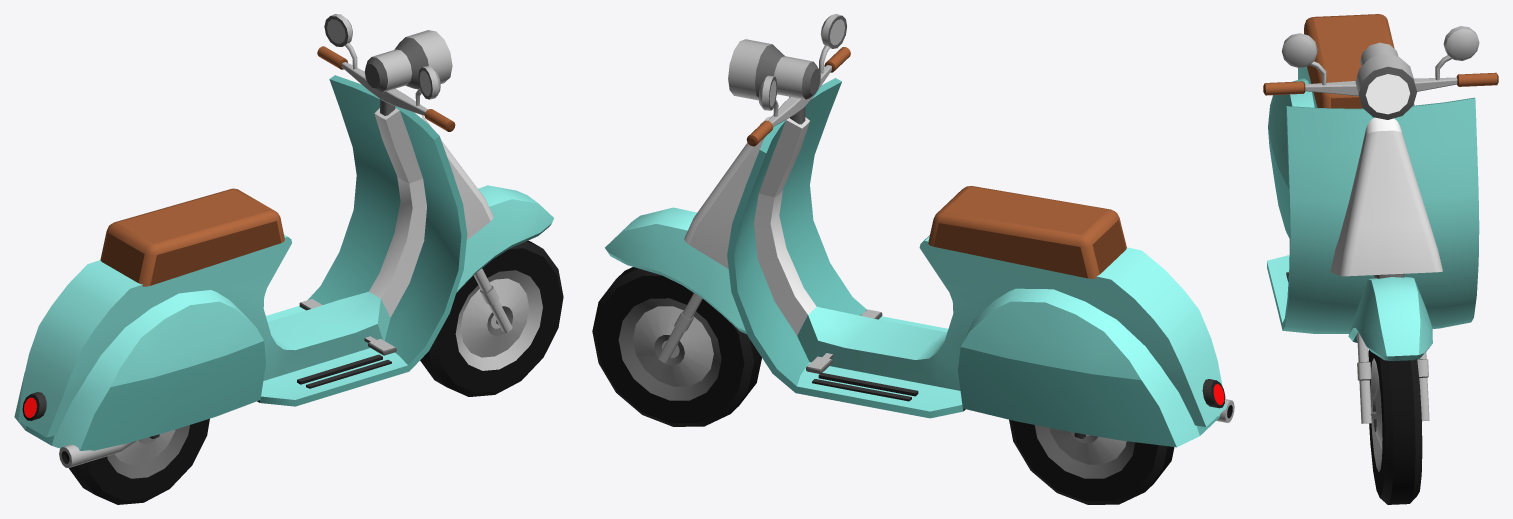
File: Bike_011.glb
The picture shows the model from 3 angles, left to right: view 1: azimuth 30°, elevation 25°; view 2: azimuth 150°, elevation 25°; view 3: azimuth 270°, elevation 25°; orthographic projection. The views are drawn at different scales.
Parts seen in each view (by area): view 1: Bike_011, wheel_0_Bike_011_Wheel_1L, wheel_1_Bike_011_Wheel_2R; view 2: Bike_011, wheel_0_Bike_011_Wheel_1L, wheel_1_Bike_011_Wheel_2R; view 3: Bike_011, wheel_0_Bike_011_Wheel_1L.
Part boxes in pixels (box(x1,y1,x2,y2)): Bike_011: box(14, 14, 553, 467); wheel_0_Bike_011_Wheel_1L: box(420, 240, 563, 396); wheel_1_Bike_011_Wheel_2R: box(69, 418, 209, 504); Bike_011: box(605, 14, 1234, 447); wheel_0_Bike_011_Wheel_1L: box(592, 267, 761, 426); wheel_1_Bike_011_Wheel_2R: box(1009, 419, 1174, 504); Bike_011: box(1263, 14, 1498, 361); wheel_0_Bike_011_Wheel_1L: box(1357, 332, 1429, 504).
Bounding box in the file's own units: 2.07 × 1.34 × 0.7026.
Materials: 2 (2 with a texture image).
